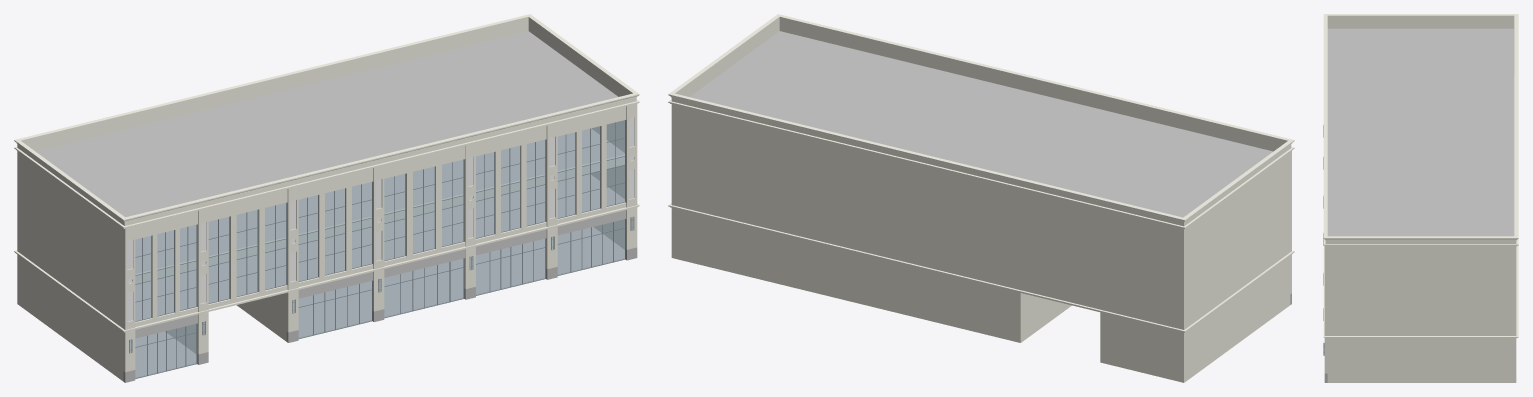
The model's file is lou02.fbx.
3 renders of one model, left to right at view 1: azimuth 30°, elevation 25°; view 2: azimuth 150°, elevation 25°; view 3: azimuth 270°, elevation 25°, orthographic. The views are drawn at different scales.
Visible parts, largest first — view 1: Obj3d66-1371392-3498-228; view 2: Obj3d66-1371392-3498-228; view 3: Obj3d66-1371392-3498-228.
Boxes of the visible parts, left/top/right/bottom form: Obj3d66-1371392-3498-228: left=14, top=14, right=639, bottom=382; Obj3d66-1371392-3498-228: left=668, top=14, right=1294, bottom=382; Obj3d66-1371392-3498-228: left=1323, top=14, right=1518, bottom=382.
Bounding box in the file's own units: 5060 × 1535 × 1861.
